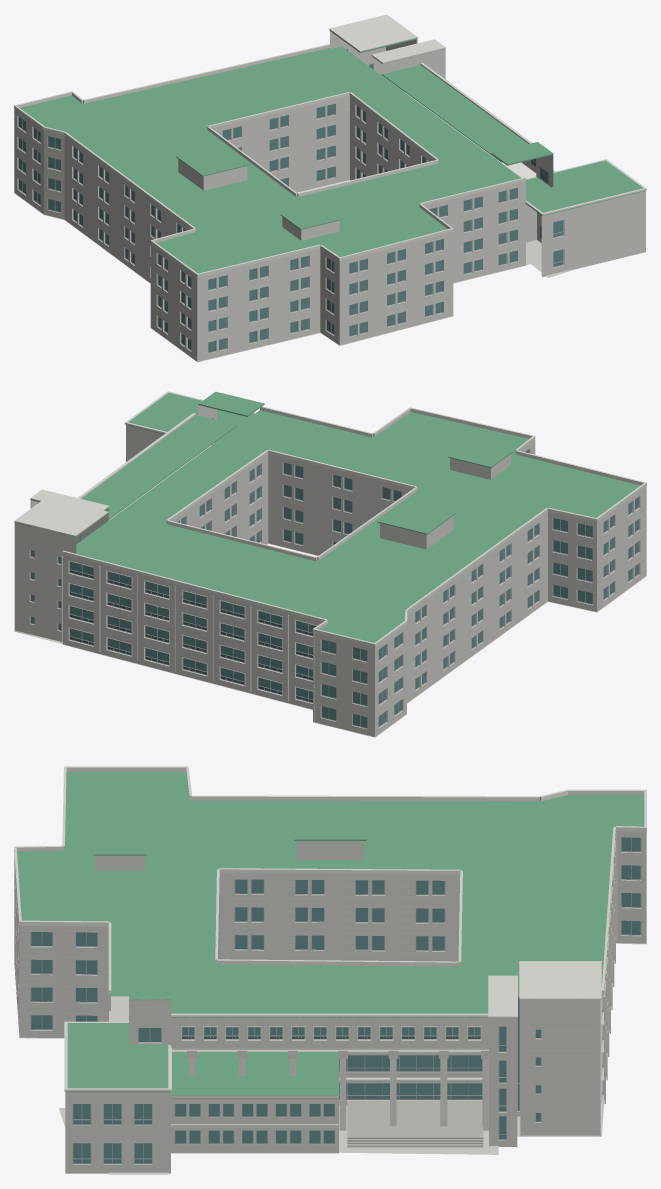
3 renders of one model, top to bottom at view 1: azimuth 30°, elevation 25°; view 2: azimuth 150°, elevation 25°; view 3: azimuth 270°, elevation 25°, orthographic. The views are drawn at different scales.
Visible parts, largest first — view 1: courtyard-ring-floor-14.6, outer-estimated-03__wall, outer-estimated-01__wall, courtyard-estimated-00__wall, outer-estimated-06__wall, north-low-wing-side__wall, outer-estimated-21__wall, west-bar-roof, left-low-wing-roof-inset, outer-estimated-04__wall, courtyard-estimated-03__wall, outer-estimated-03__window__glass (+36 smaller); view 2: courtyard-ring-floor-14.6, outer-estimated-11__wall, outer-estimated-06__wall, courtyard-estimated-02__wall, outer-estimated-11__window__glass, south-core-tall-side__wall, west-bar-roof, outer-estimated-09__wall, outer-estimated-04__wall, courtyard-estimated-03__wall, outer-estimated-05__wall, outer-estimated-11__window__stone-surround (+36 smaller); view 3: courtyard-ring-floor-14.6, courtyard-estimated-01__wall, south-core-tall-front__wall, west-bar-roof, west-upper-horizontal-bar__wall, outer-estimated-00__wall, west-low-podium-roof, north-low-wing-front__wall, west-low-podium-front__wall, left-low-wing-roof-inset, west-entry-landing, courtyard-estimated-01__window__glass (+38 smaller).
Part boxes in pixels (bbox=[...]): courtyard-ring-floor-14.6: bbox=[20, 46, 521, 273]; outer-estimated-03__wall: bbox=[197, 248, 320, 361]; outer-estimated-01__wall: bbox=[339, 232, 453, 345]; courtyard-estimated-00__wall: bbox=[212, 95, 349, 192]; outer-estimated-06__wall: bbox=[64, 136, 190, 282]; north-low-wing-side__wall: bbox=[526, 191, 645, 277]; outer-estimated-21__wall: bbox=[424, 181, 525, 282]; west-bar-roof: bbox=[381, 65, 527, 162]; left-low-wing-roof-inset: bbox=[526, 160, 643, 212]; outer-estimated-04__wall: bbox=[150, 244, 197, 361]; courtyard-estimated-03__wall: bbox=[350, 96, 433, 180]; outer-estimated-03__window__glass: bbox=[208, 256, 308, 352]; courtyard-ring-floor-14.6: bbox=[76, 410, 640, 642]; outer-estimated-11__wall: bbox=[62, 554, 322, 709]; outer-estimated-06__wall: bbox=[407, 512, 547, 702]; courtyard-estimated-02__wall: bbox=[268, 453, 411, 555]; outer-estimated-11__window__glass: bbox=[70, 561, 316, 699]; south-core-tall-side__wall: bbox=[15, 522, 76, 641]; west-bar-roof: bbox=[82, 415, 237, 519]; outer-estimated-09__wall: bbox=[313, 632, 374, 736]; outer-estimated-04__wall: bbox=[597, 486, 646, 611]; courtyard-estimated-03__wall: bbox=[172, 454, 268, 544]; outer-estimated-05__wall: bbox=[548, 511, 596, 611]; outer-estimated-11__window__stone-surround: bbox=[68, 560, 317, 704]; courtyard-ring-floor-14.6: bbox=[17, 771, 644, 996]; courtyard-estimated-01__wall: bbox=[219, 873, 460, 961]; south-core-tall-front__wall: bbox=[521, 999, 599, 1136]; west-bar-roof: bbox=[171, 990, 488, 1017]; west-upper-horizontal-bar__wall: bbox=[171, 1017, 488, 1048]; outer-estimated-00__wall: bbox=[19, 925, 108, 1037]; west-low-podium-roof: bbox=[171, 1052, 338, 1098]; north-low-wing-front__wall: bbox=[65, 1092, 170, 1173]; west-low-podium-front__wall: bbox=[171, 1098, 338, 1153]; left-low-wing-roof-inset: bbox=[67, 1023, 168, 1088]; west-entry-landing: bbox=[347, 1100, 483, 1136]; courtyard-estimated-01__window__glass: bbox=[235, 879, 444, 950].
Bounding box in the file's own units: 82.35 × 18.25 × 75.4.
